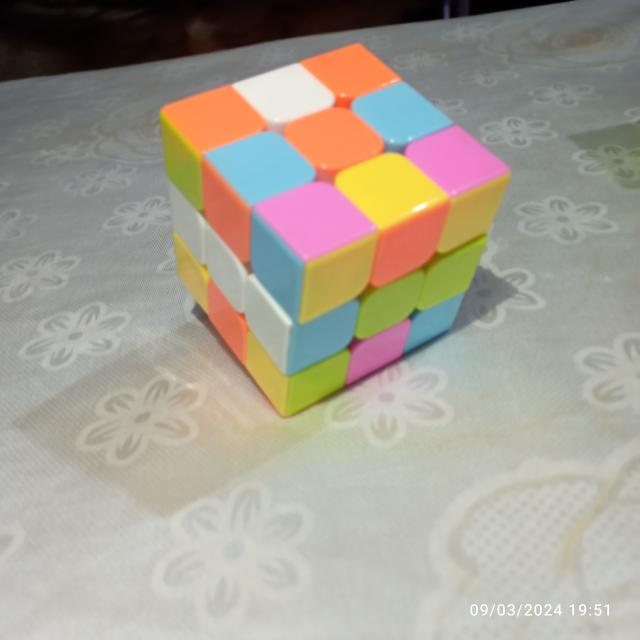Rub: (157, 39, 518, 422)
